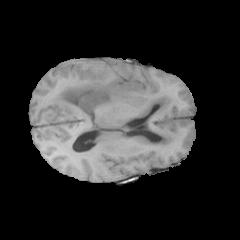glioma: (52, 76, 179, 149)
